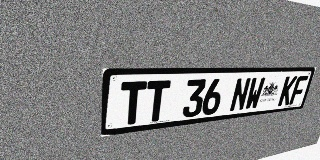3: (182, 79, 207, 118)
6: (201, 78, 225, 116)
F: (289, 76, 308, 105)
K: (277, 76, 298, 106)
N: (229, 78, 251, 112)
T: (119, 81, 147, 126), (144, 80, 171, 123)
W: (244, 77, 266, 110)
